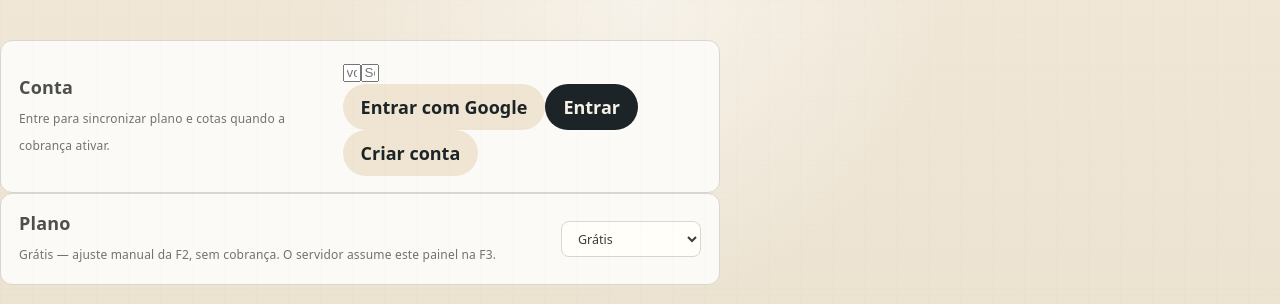
Scenario: AccountSettings › plano manual concede e revoga direitos sem cobrar
Select "IA Mensal" in the dropdown named "Plano de teste" at (631, 239), box [561,221,701,257]
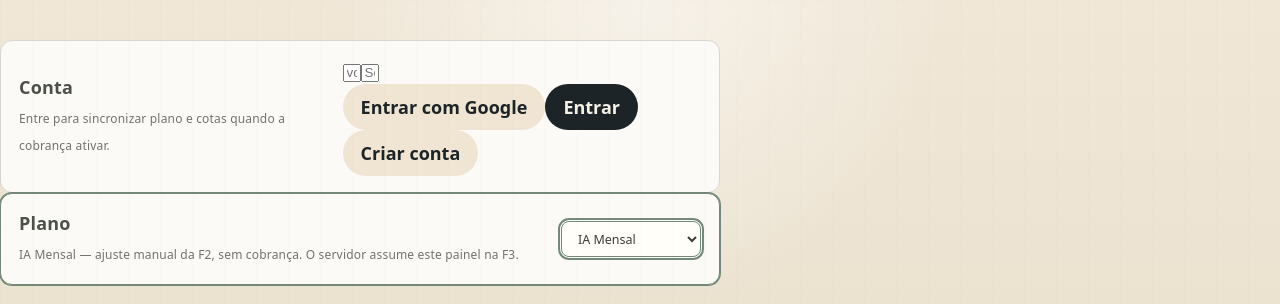
Expected: the text "ajuste manual da F2" shows "IA Mensal", [19,246,76,263]
Select "Grátis" in the dropdown named "Plano de teste" at (631, 239), box [561,221,701,257]
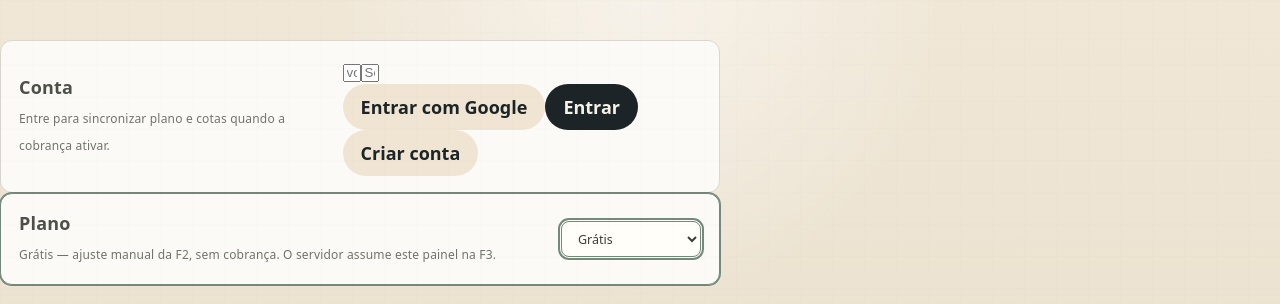
Expected: the text "ajuste manual da F2" shows "Grátis", [19,246,54,263]
